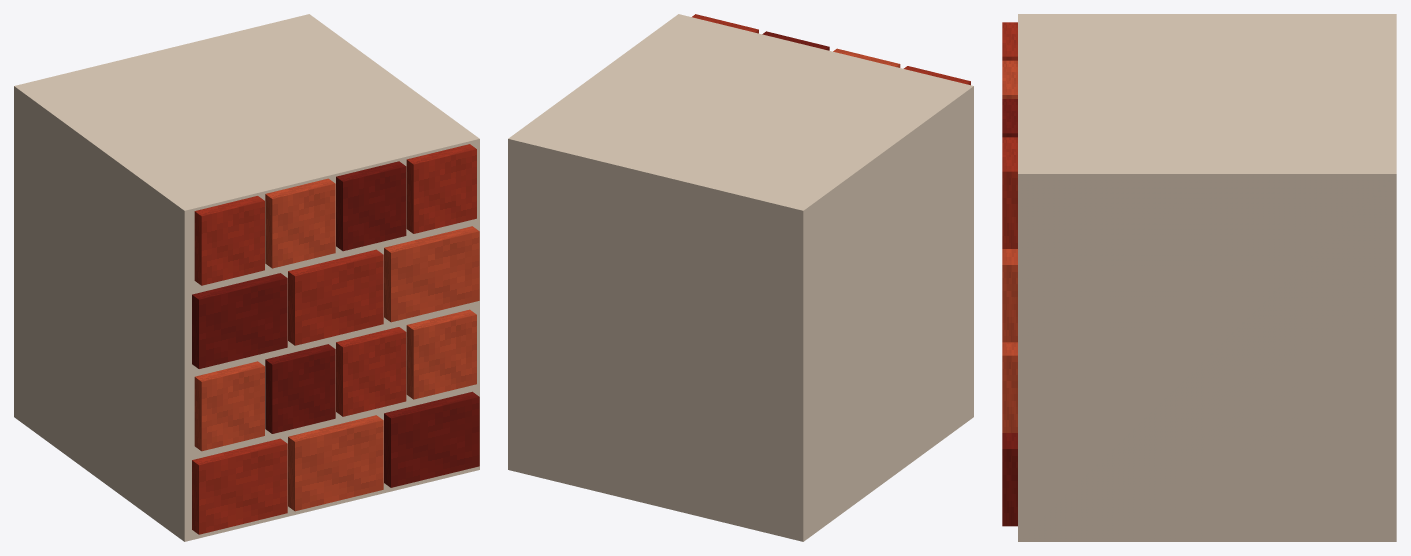
Rendered from bp_brickblock.glb.
3 views of the same model, side by side, from view 1: azimuth 30°, elevation 25°; view 2: azimuth 150°, elevation 25°; view 3: azimuth 270°, elevation 25° (orthographic). The views are drawn at different scales.
Parts seen in each view (by area): view 1: brick_mortar, brick_face, brick_face.002, brick_face.009, brick_face.008, brick_face.001, brick_face.007, brick_face.006, brick_face.004, brick_face.013, brick_face.003, brick_face.010 (+3 smaller); view 2: brick_mortar; view 3: brick_mortar, brick_face.013, brick_face.002, brick_face.009, brick_face.006, brick_face.010, brick_face.011, brick_face.012.
Part boxes in pixels (bbox=[...]): brick_mortar: bbox=[14, 14, 479, 541]; brick_face: bbox=[192, 438, 287, 534]; brick_face.002: bbox=[384, 391, 479, 487]; brick_face.009: bbox=[384, 226, 479, 322]; brick_face.008: bbox=[288, 249, 383, 345]; brick_face.001: bbox=[288, 415, 383, 511]; brick_face.007: bbox=[192, 273, 287, 368]; brick_face.006: bbox=[406, 309, 476, 399]; brick_face.004: bbox=[265, 344, 335, 433]; brick_face.013: bbox=[406, 144, 476, 233]; brick_face.003: bbox=[194, 361, 264, 451]; brick_face.010: bbox=[194, 196, 264, 285]; brick_mortar: bbox=[508, 14, 973, 541]; brick_mortar: bbox=[1018, 14, 1396, 541]; brick_face.013: bbox=[1002, 137, 1017, 248]; brick_face.002: bbox=[1002, 433, 1017, 526]; brick_face.009: bbox=[1002, 249, 1017, 342]; brick_face.006: bbox=[1002, 342, 1017, 432]; brick_face.010: bbox=[1002, 22, 1017, 60]; brick_face.011: bbox=[1002, 60, 1017, 98]; brick_face.012: bbox=[1002, 99, 1017, 137].
Size of the model in its own units: 1.4 by 1.5 by 1.46.
Materials: 4 (3 with a texture image).
